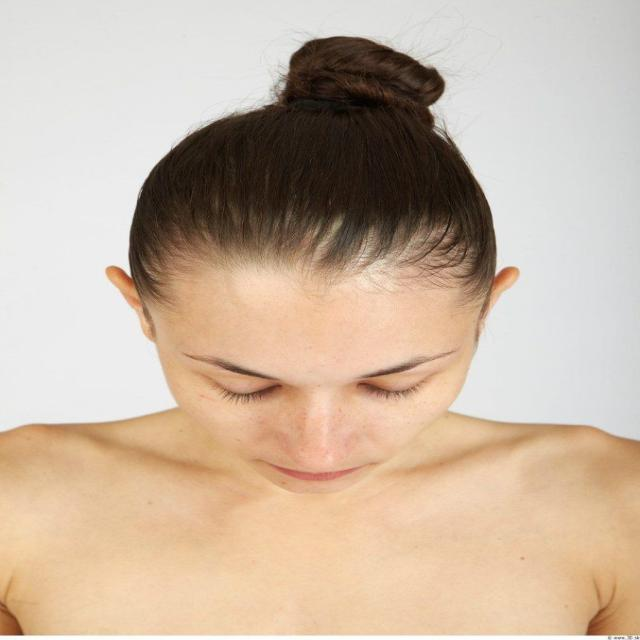9_cabeza_baja: (108, 34, 517, 494)
